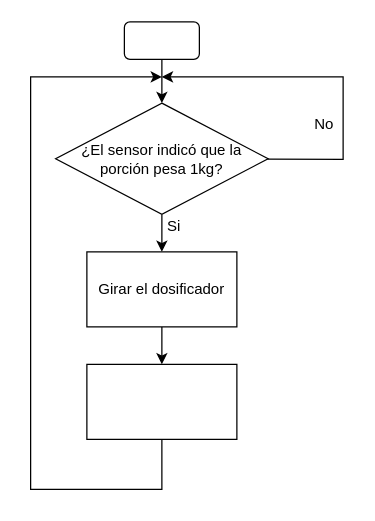
The diagram is 375 pixels wide and 521 high, and some of its shapes have lost their labels. Here are the shapes that lost their labels. From the top down, the centre of each, then its label:
[161,40]: Inicio
[161,401]: Depositar el café en el tubo formador
